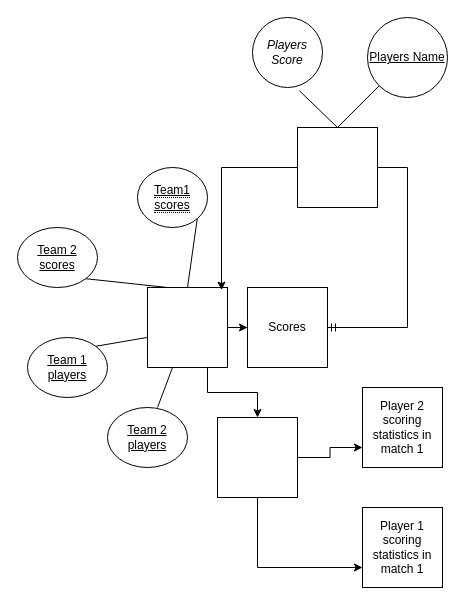
The diagram is 465 pixels wide and 605 high, and some of its shapes have lost their labels. The shapes that lost their labels are listed below. From the top down, each one's box as (x1, y1, x2, y2) in pixels, then its label:
(296, 126, 378, 208): League players, matches and cores
(146, 286, 228, 368): Volleyball Match of Schools
(216, 416, 298, 498): Players in match 1
